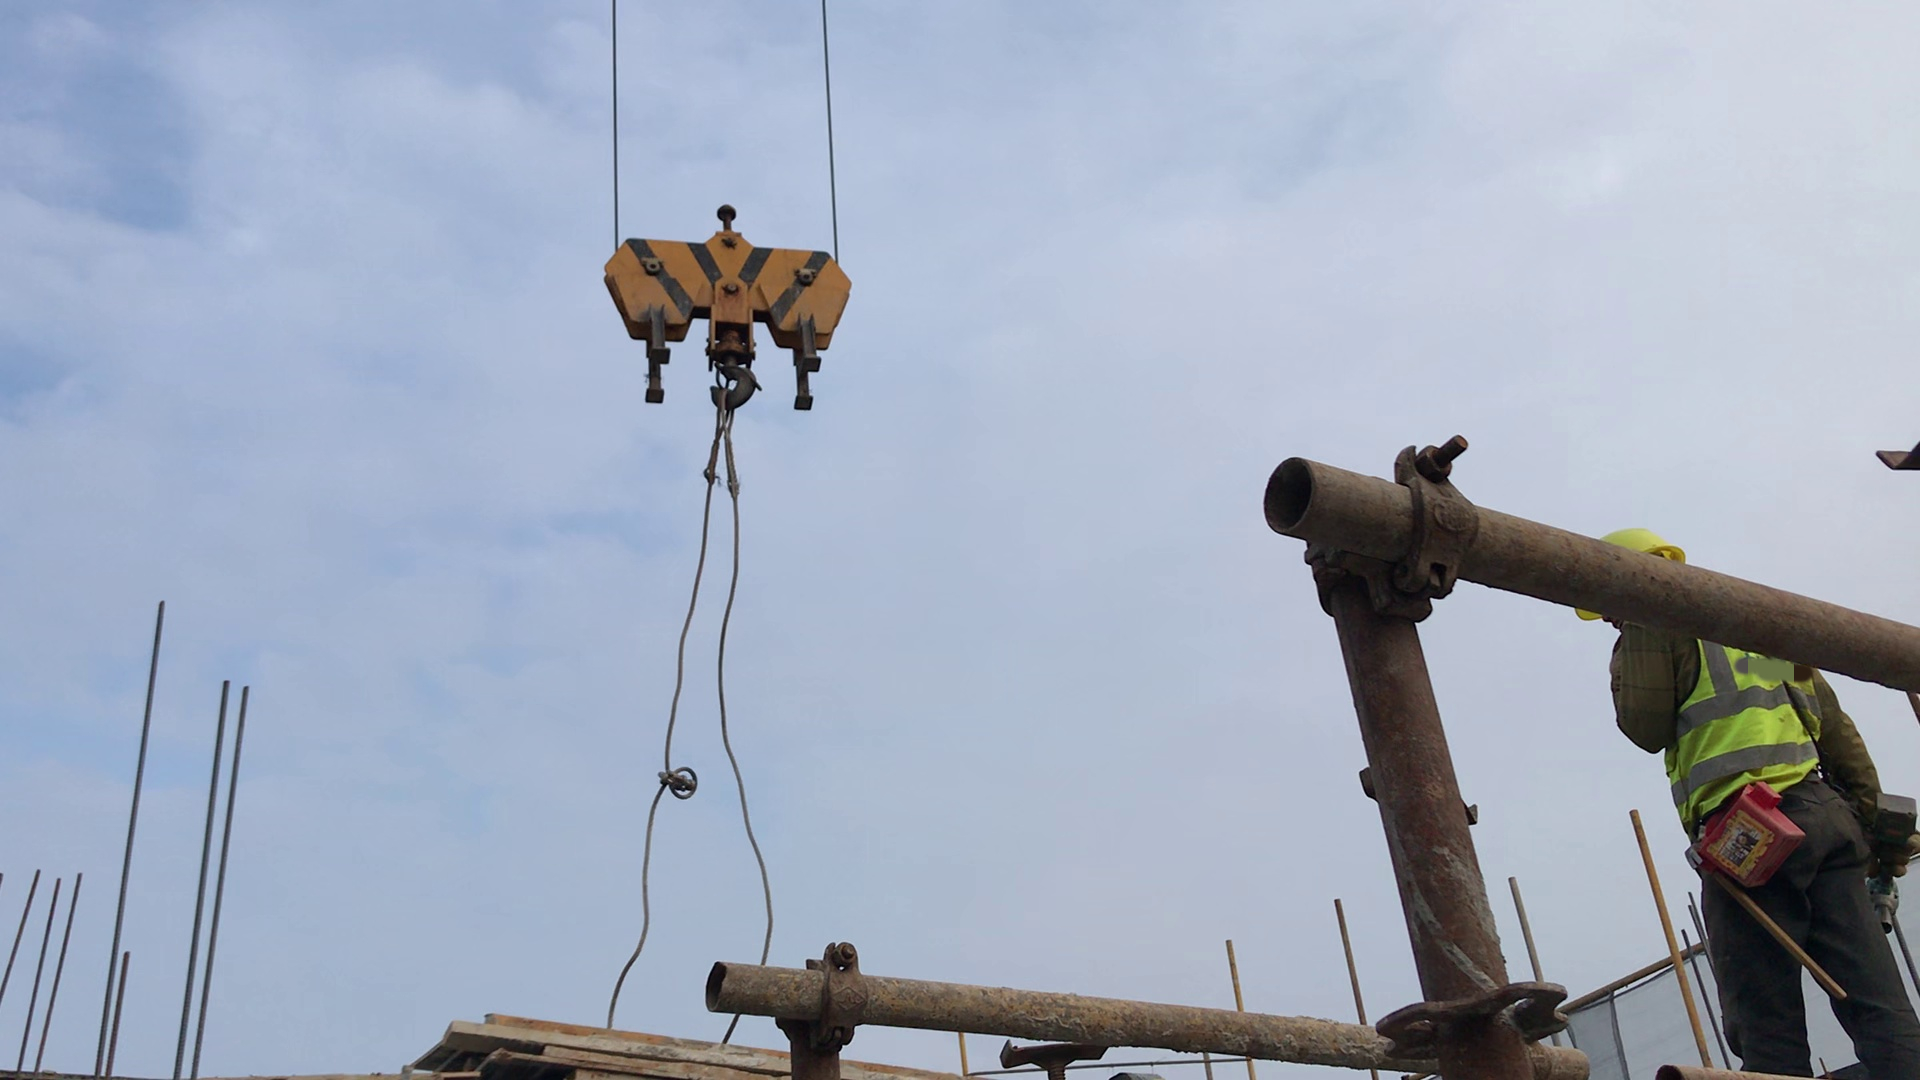helmet: (1567, 515, 1688, 623)
hook: (587, 194, 902, 423)
person: (1558, 513, 1920, 1072)
vest: (1632, 631, 1849, 812)
